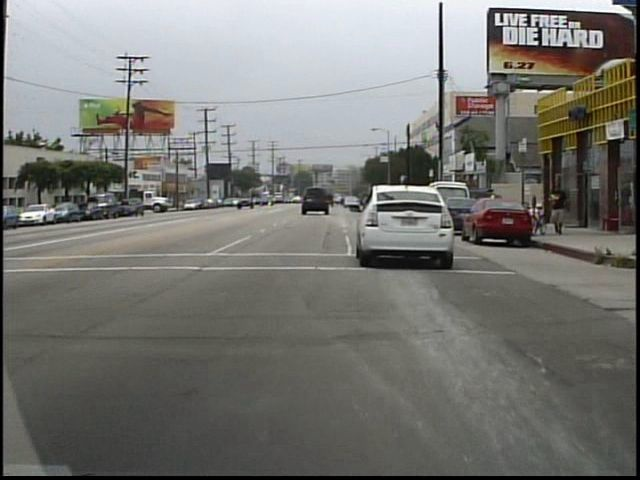person: (547, 176, 571, 239)
